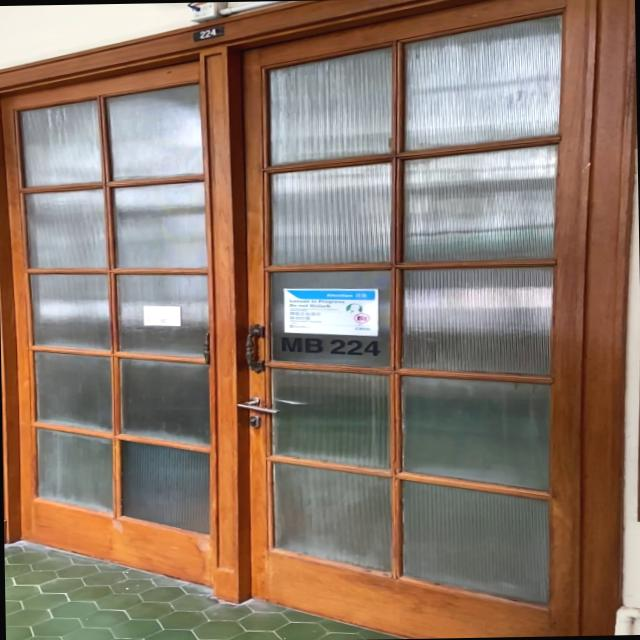room224: (190, 24, 225, 42)
room224Window: (276, 334, 384, 359)
